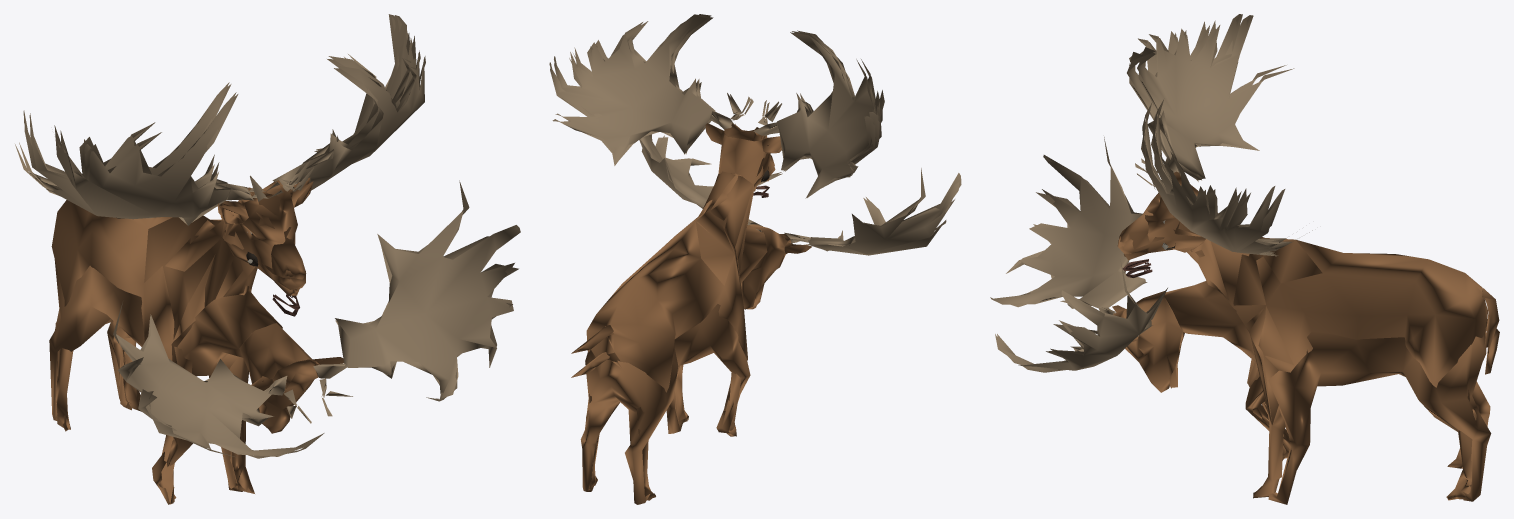
The model's file is deer-far.glb.
3 views of the same model, side by side, from view 1: azimuth 30°, elevation 25°; view 2: azimuth 150°, elevation 25°; view 3: azimuth 270°, elevation 25° (orthographic). The views are drawn at different scales.
Parts seen in each view (by area): view 1: LifeLensNativeFarForageAntlers, LifeLensNativeFarForageBody, LifeLensNativeFarIdleBody, LifeLensNativeFarRestAntlers, LifeLensNativeFarRestBody, LifeLensNativeFarIdleAntlers; view 2: LifeLensNativeFarIdleAntlers, LifeLensNativeFarIdleBody, LifeLensNativeFarForageBody, LifeLensNativeFarForageAntlers, LifeLensNativeFarRestAntlers, LifeLensNativeFarRestBody; view 3: LifeLensNativeFarIdleBody, LifeLensNativeFarForageBody, LifeLensNativeFarForageAntlers, LifeLensNativeFarIdleAntlers, LifeLensNativeFarRestBody, LifeLensNativeFarRestAntlers.
Part boxes in pixels (left/top/right/bottom): LifeLensNativeFarForageAntlers: left=113, top=180, right=520, bottom=458; LifeLensNativeFarForageBody: left=49, top=252, right=343, bottom=504; LifeLensNativeFarIdleBody: left=51, top=177, right=310, bottom=504; LifeLensNativeFarRestAntlers: left=19, top=15, right=425, bottom=225; LifeLensNativeFarRestBody: left=144, top=181, right=313, bottom=382; LifeLensNativeFarIdleAntlers: left=15, top=14, right=420, bottom=203; LifeLensNativeFarIdleAntlers: left=549, top=14, right=880, bottom=198; LifeLensNativeFarIdleBody: left=571, top=123, right=781, bottom=500; LifeLensNativeFarForageBody: left=571, top=170, right=811, bottom=504; LifeLensNativeFarForageAntlers: left=639, top=134, right=961, bottom=255; LifeLensNativeFarRestAntlers: left=554, top=14, right=884, bottom=195; LifeLensNativeFarRestBody: left=607, top=124, right=781, bottom=377; LifeLensNativeFarIdleBody: left=1119, top=171, right=1499, bottom=500; LifeLensNativeFarForageBody: left=1112, top=243, right=1499, bottom=504; LifeLensNativeFarForageAntlers: left=990, top=137, right=1167, bottom=372; LifeLensNativeFarIdleAntlers: left=1137, top=15, right=1312, bottom=256; LifeLensNativeFarRestBody: left=1117, top=193, right=1322, bottom=424; LifeLensNativeFarRestAntlers: left=1127, top=14, right=1286, bottom=253.
Bounding box in the file's own units: 1.8 × 2.08 × 2.3.
